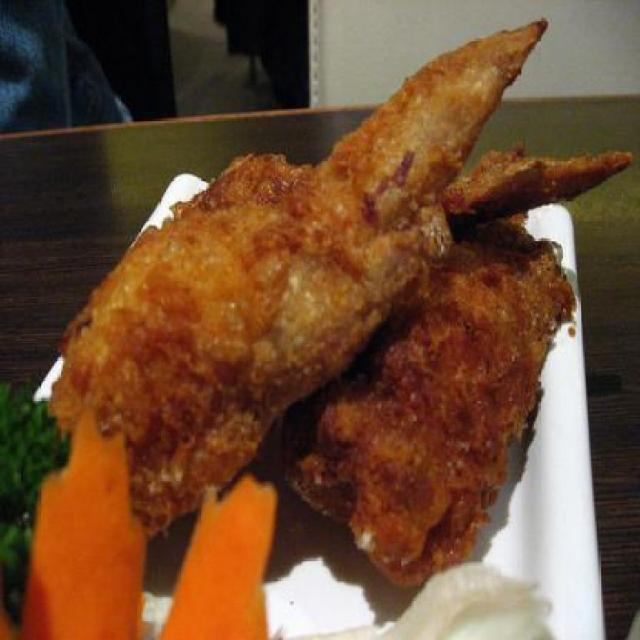Deep fried chicken wing: (81, 15, 608, 593)
